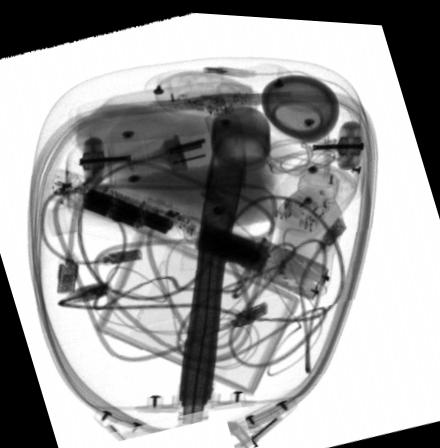Baton: (47, 167, 328, 295)
